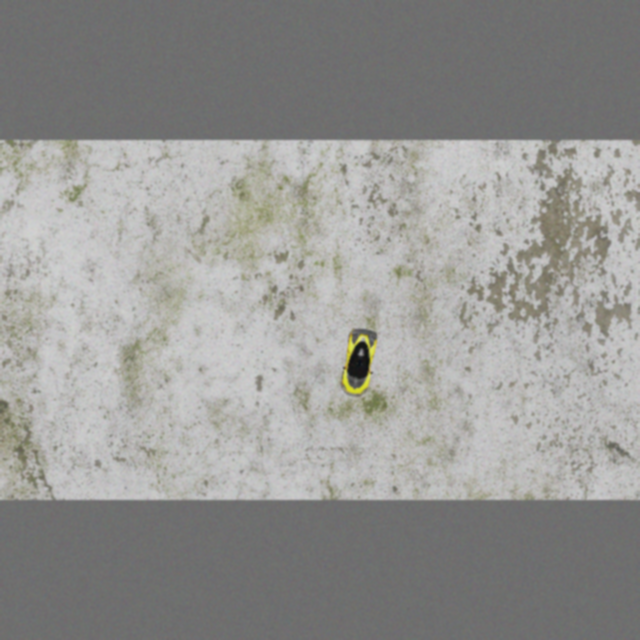car: (338, 326, 381, 398)
